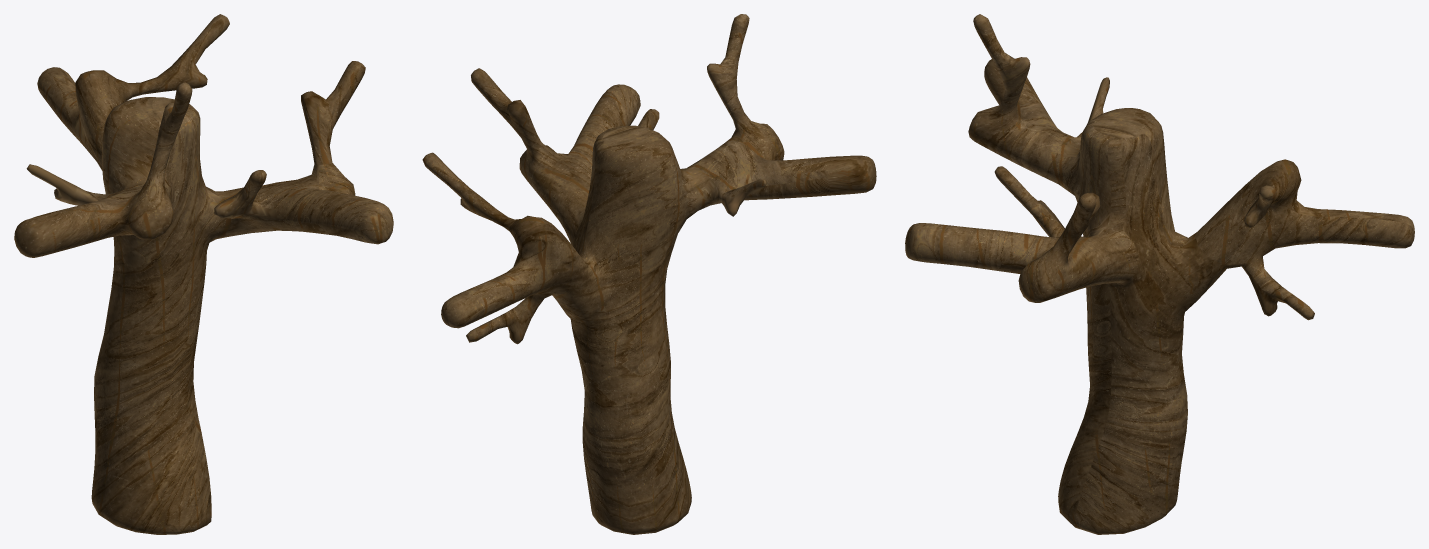
File: tree.gltf
3 views of the same model, side by side, from view 1: azimuth 30°, elevation 25°; view 2: azimuth 150°, elevation 25°; view 3: azimuth 270°, elevation 25° (orthographic). The views are drawn at different scales.
Visible parts, largest first — view 1: Merged_PM3D_Cylinder3D2; view 2: Merged_PM3D_Cylinder3D2; view 3: Merged_PM3D_Cylinder3D2.
Boxes of the visible parts, x1,y1,x2,y2 form: Merged_PM3D_Cylinder3D2: (14,14,393,534); Merged_PM3D_Cylinder3D2: (422,14,876,534); Merged_PM3D_Cylinder3D2: (905,14,1414,534).
Size of the model in its own units: 18.85 by 23.2 by 22.14.
1 material, 1 textured.
